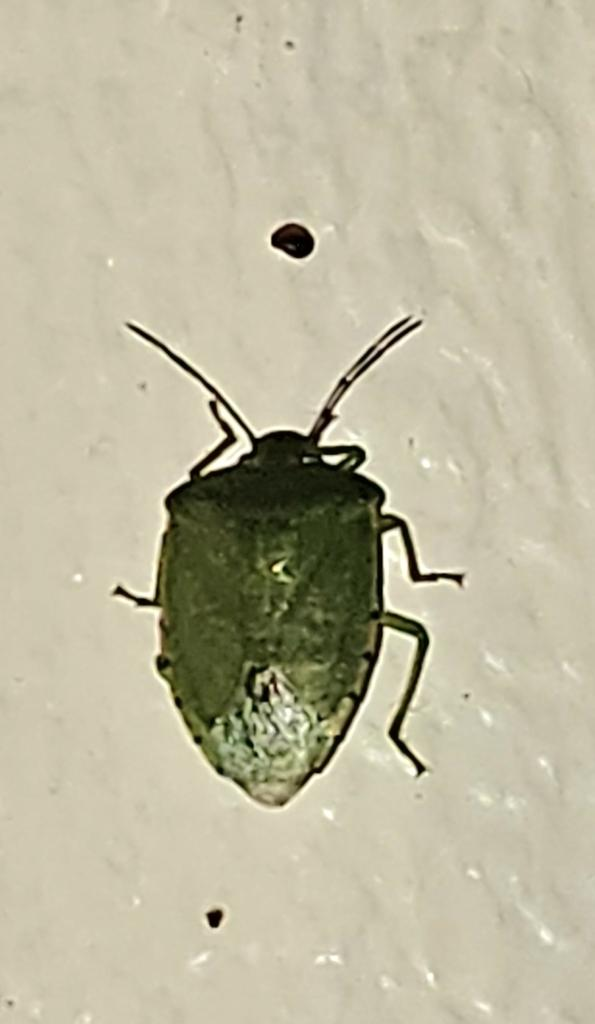stink_bugs: (13, 234, 578, 881)
